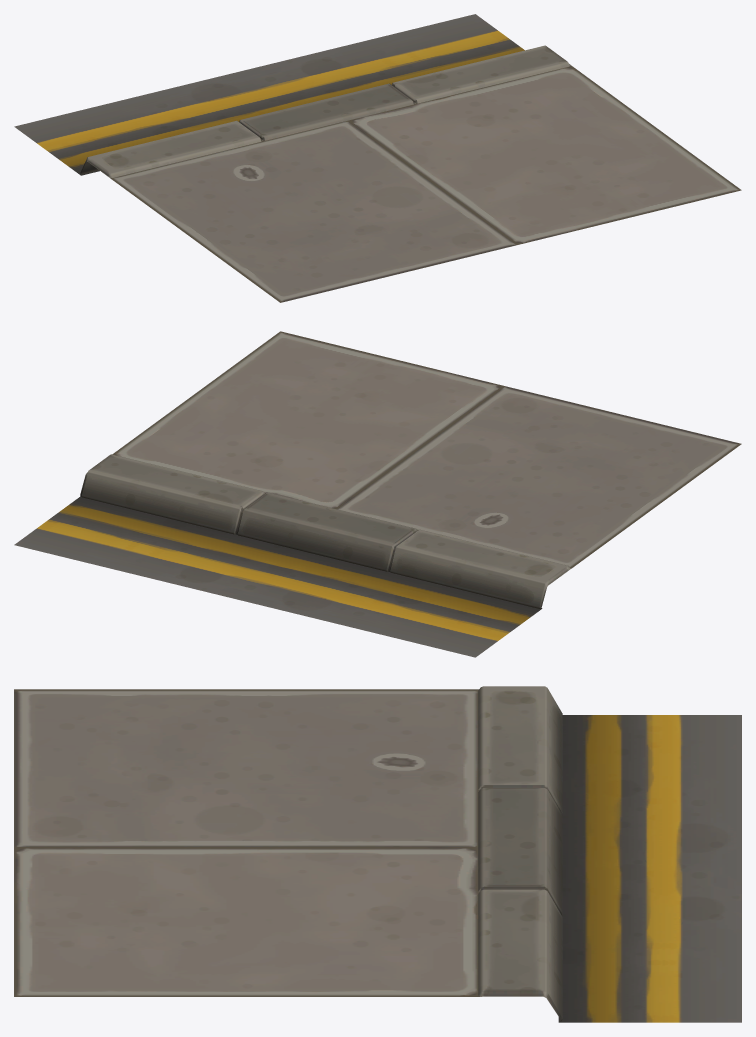
The model's file is Road_Side.fbx.
3 views of the same model, one above another, from view 1: azimuth 30°, elevation 25°; view 2: azimuth 150°, elevation 25°; view 3: azimuth 270°, elevation 25° (orthographic). The views are drawn at different scales.
Parts seen in each view (by area): view 1: path_side_01 (4); view 2: path_side_01 (4); view 3: path_side_01 (4).
Boxes of the visible parts, left/top/right/bottom form: path_side_01 (4): left=14, top=14, right=741, bottom=302; path_side_01 (4): left=14, top=331, right=741, bottom=657; path_side_01 (4): left=14, top=686, right=741, bottom=1022.
Bounding box in the file's own units: 240 × 11.05 × 240.
